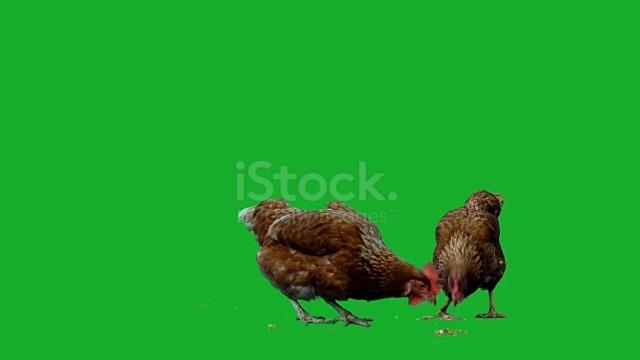Normal: (242, 198, 439, 328), (431, 185, 519, 320)
